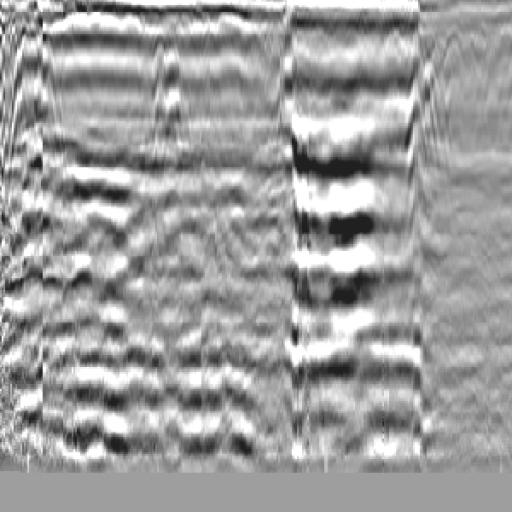non-metallic: (385, 36, 447, 231), (7, 21, 66, 133)
